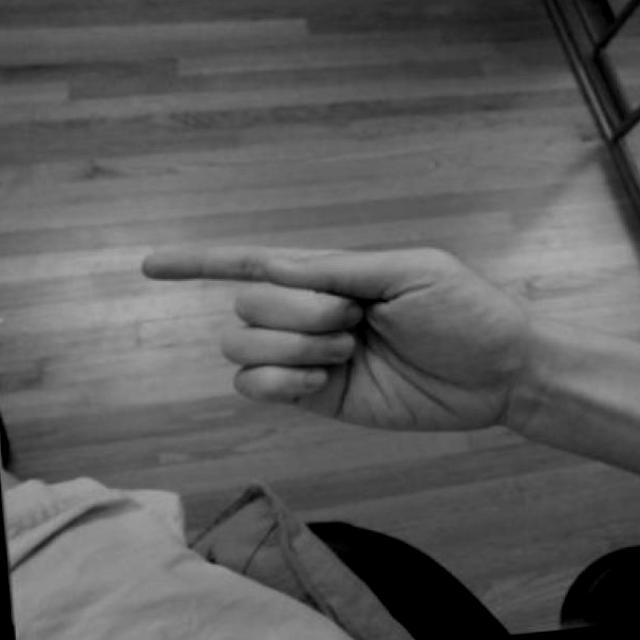G: (126, 210, 557, 447)
